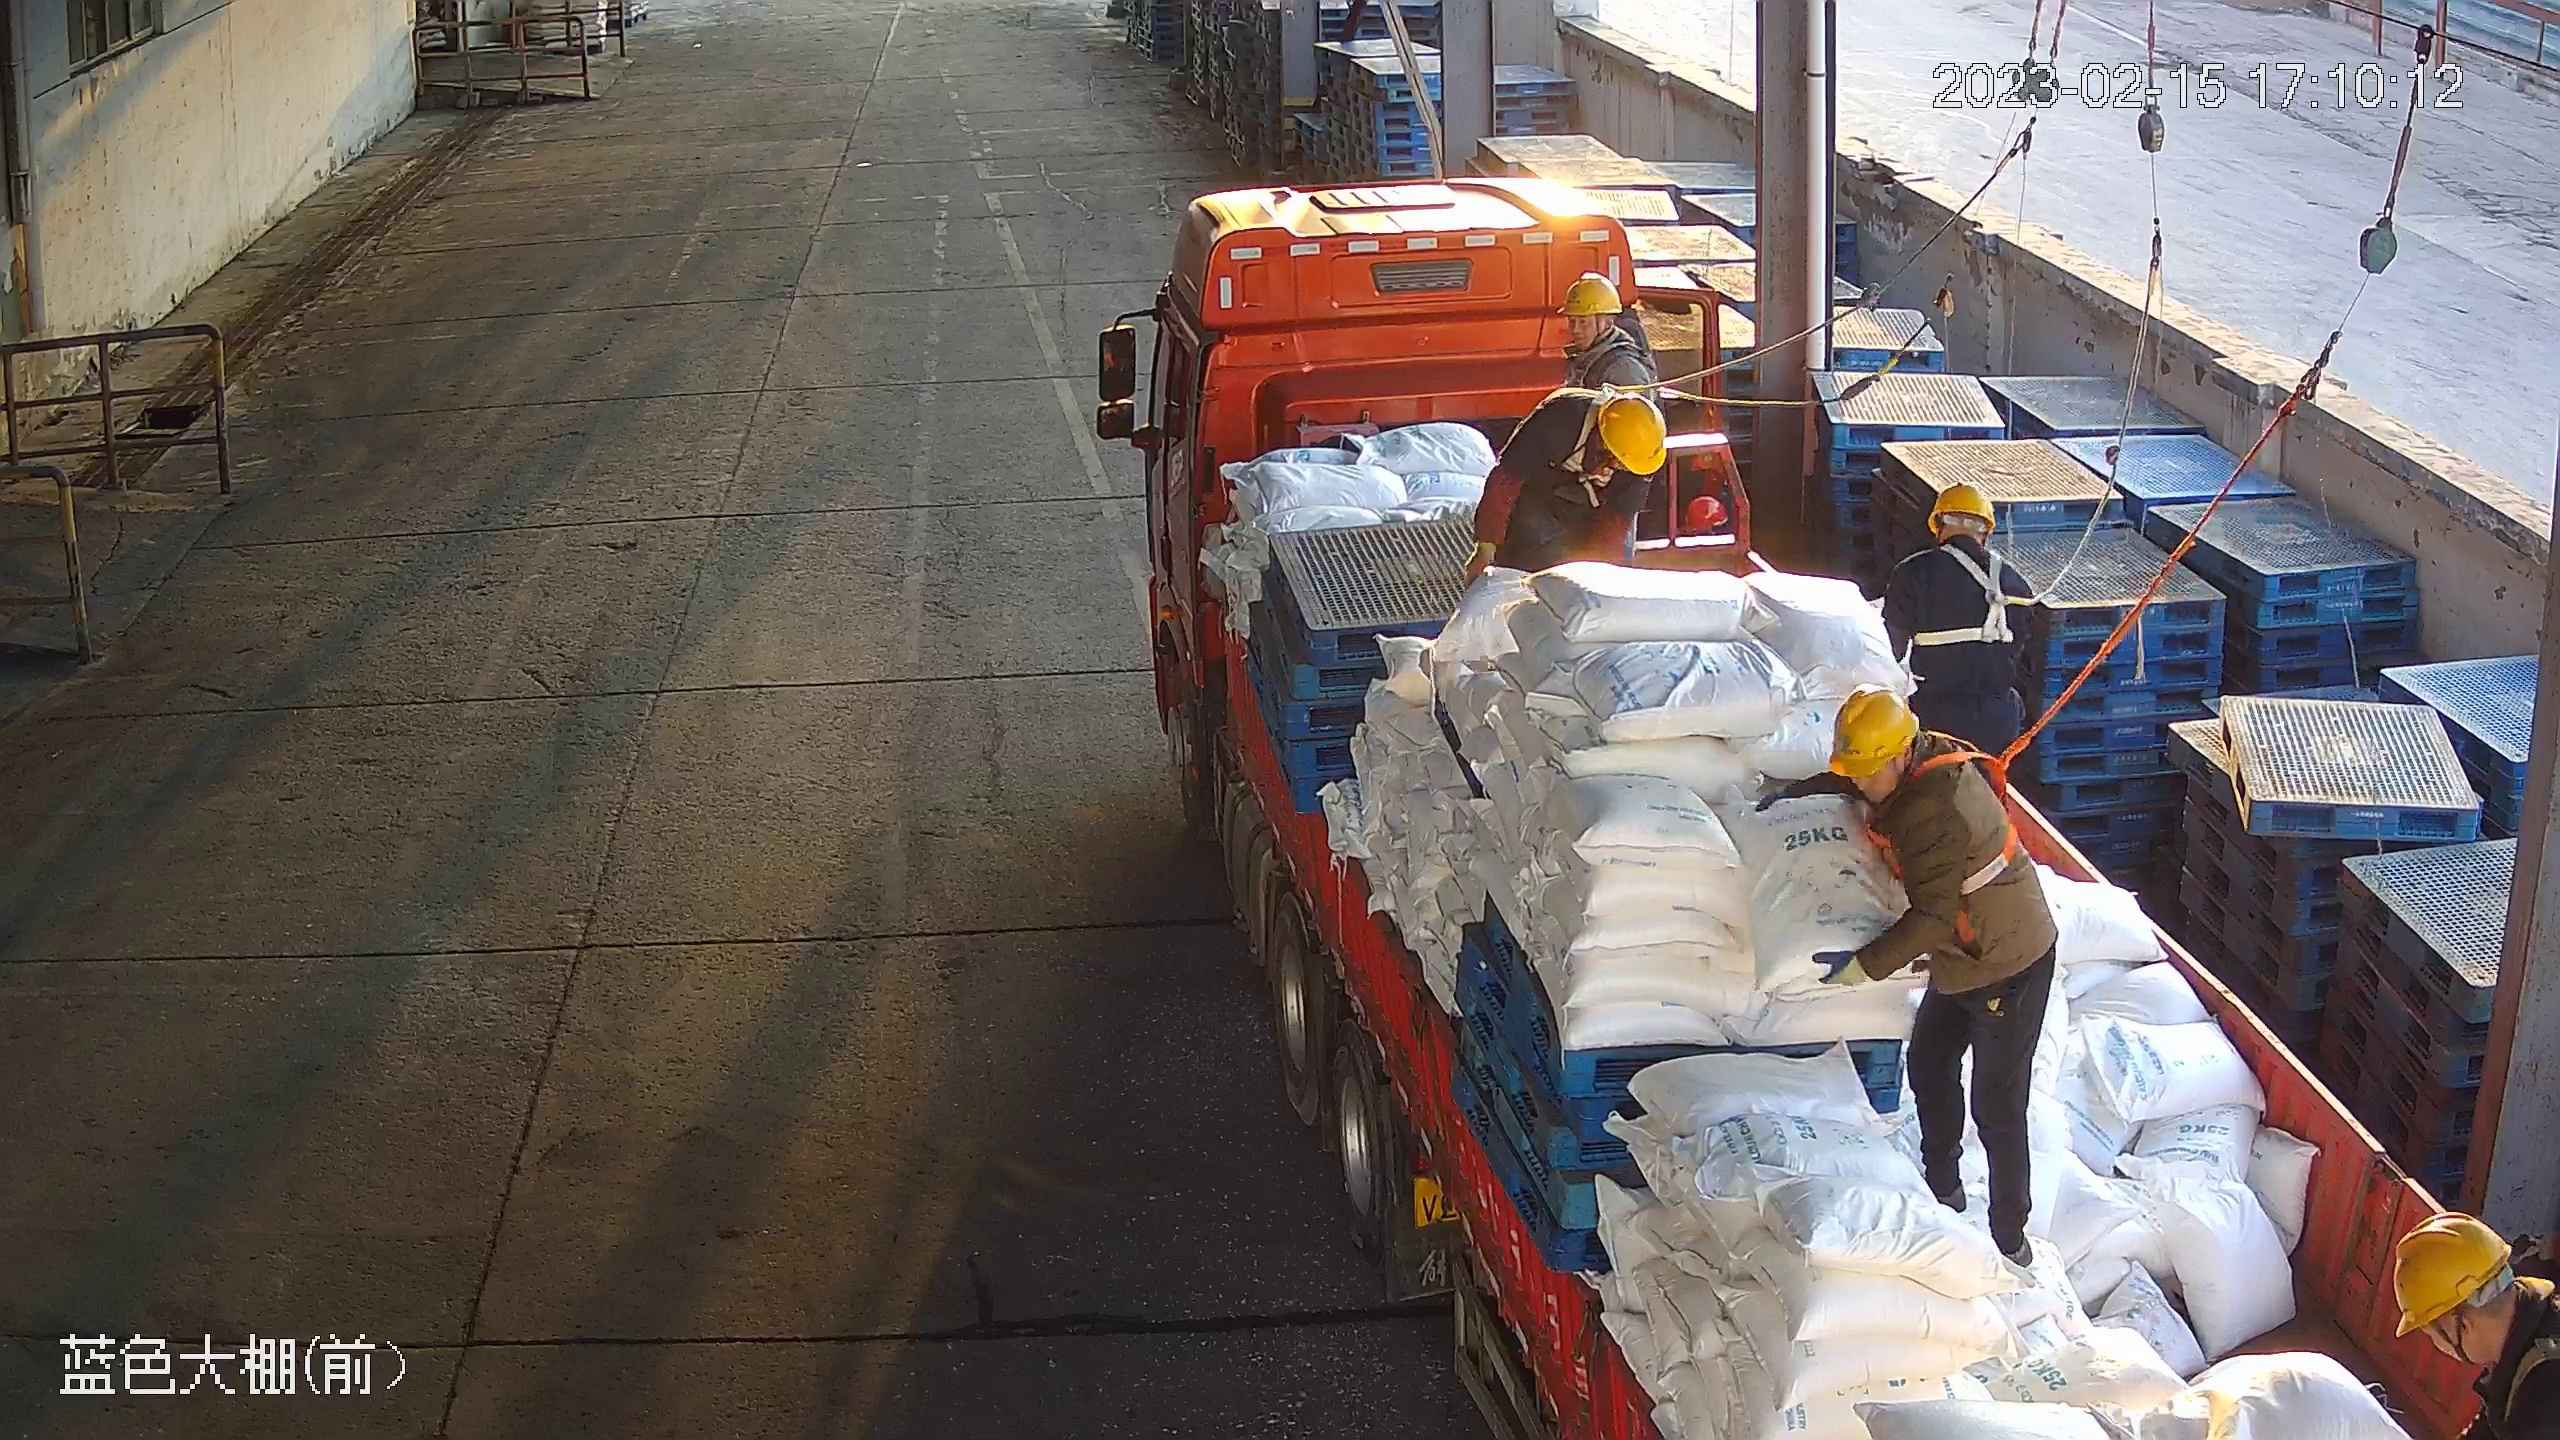belt: (1867, 732, 2019, 893), (1562, 378, 1673, 496), (1906, 541, 2025, 650), (1564, 335, 1671, 398)
head: (1828, 683, 2003, 823), (1882, 479, 2036, 597), (1540, 389, 1668, 489), (1547, 269, 1649, 379)
helmet: (2388, 1211, 2515, 1341), (1825, 682, 1920, 779), (1596, 390, 1667, 475), (1926, 481, 1997, 538), (1556, 269, 1624, 318)
people: (1754, 682, 2064, 1267), (1881, 483, 2037, 793), (1463, 388, 1668, 587)
truck: (1141, 173, 2560, 1440)
